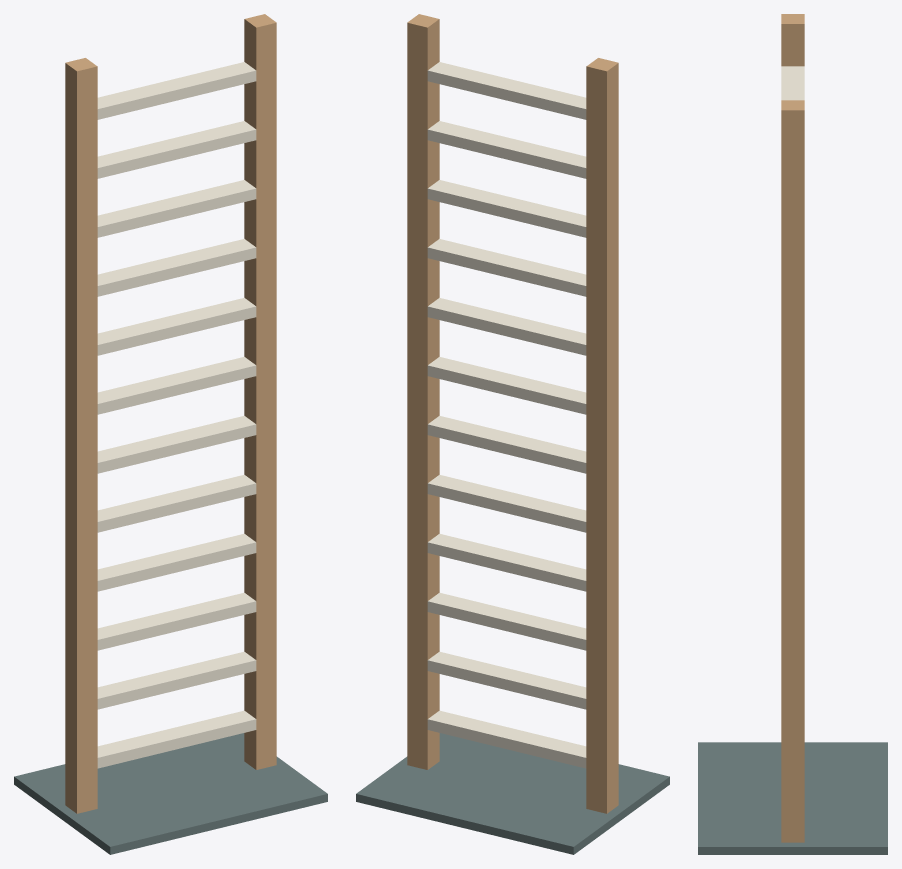
File: attic-access-ladder.glb
3 views of the same model, side by side, from view 1: azimuth 30°, elevation 25°; view 2: azimuth 150°, elevation 25°; view 3: azimuth 270°, elevation 25° (orthographic).
Bounding box in the file's own units: 0.85 × 2.8 × 0.65.
